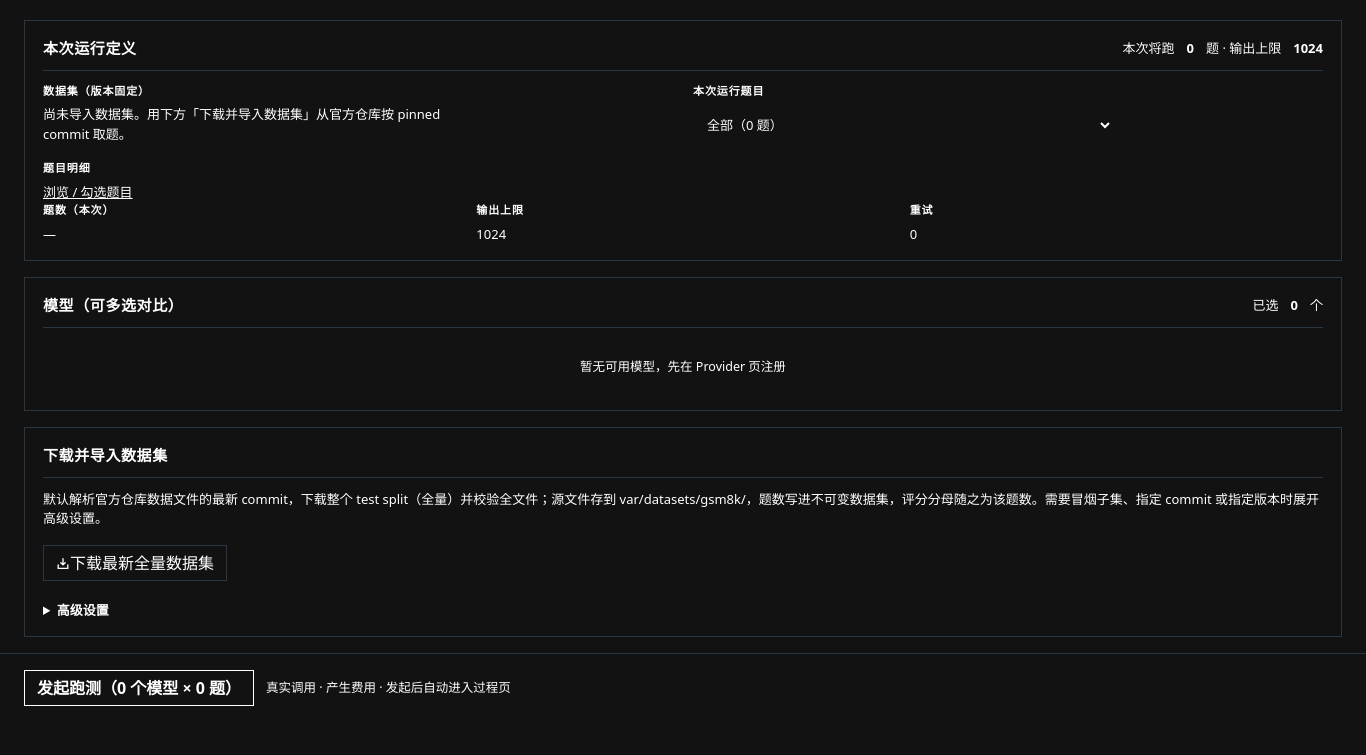
Gsm8kOperate › 默认一键下载官方最新全量数据集（commit/版本留空由服务端解析）
This screenshot has width=1366, height=755.
Click the button "下载最新全量数据集". click: {"x": 135, "y": 563}
box: left=43, top=545, right=227, bottom=581
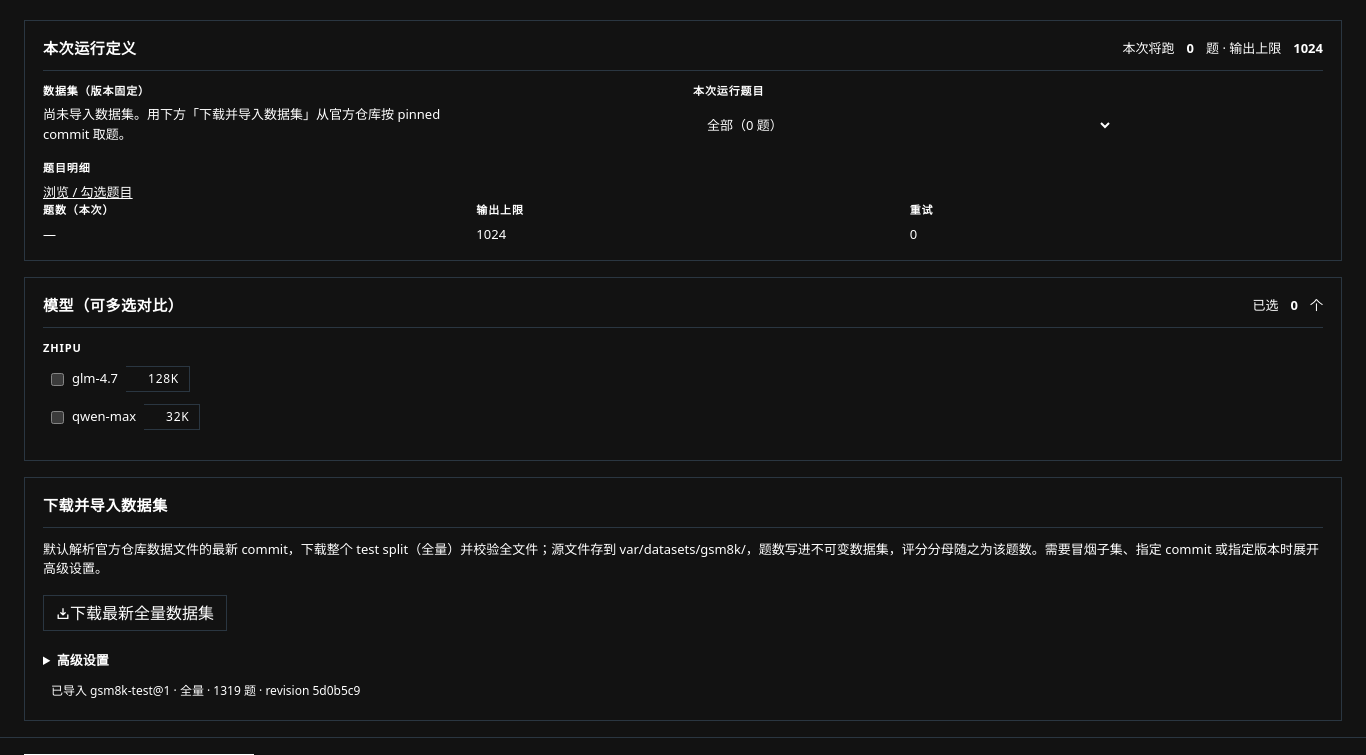
Result: the text "已导入 gsm8k-test@1 · 全量 · 1319 题 · revision 5d0b5c9" is shown at left=51, top=682, right=360, bottom=699
